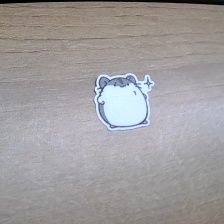mouse: (93, 70, 158, 131)
